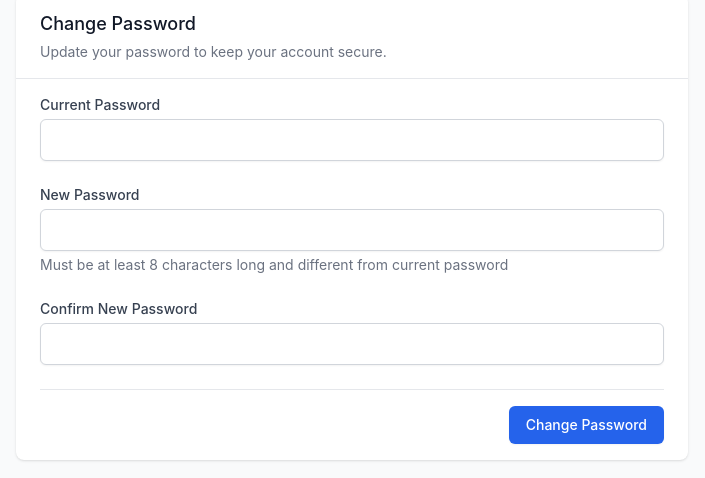
Test: PasswordChangeForm › shows loading state during submission
In the password field labelled "Current Password": (352, 140) x1=40 y1=119 x2=664 y2=161, type "oldpassword123"
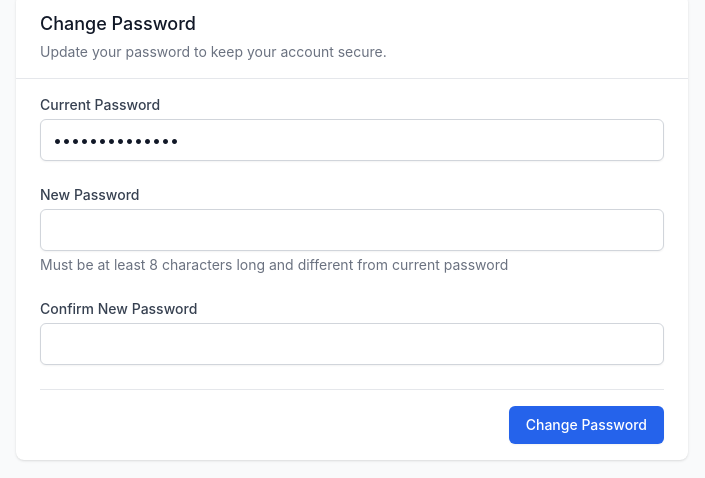
In the password field labelled "New Password": (352, 230) x1=40 y1=209 x2=664 y2=251, type "newpassword123"
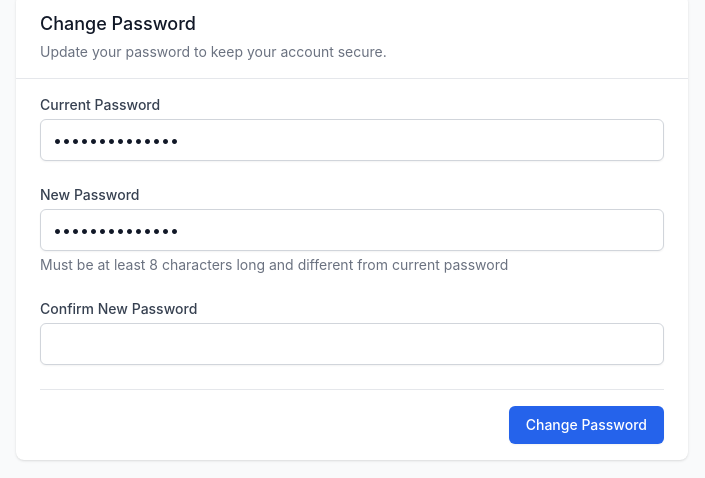
In the password field labelled "Confirm New Password": (352, 344) x1=40 y1=323 x2=664 y2=365, type "newpassword123"
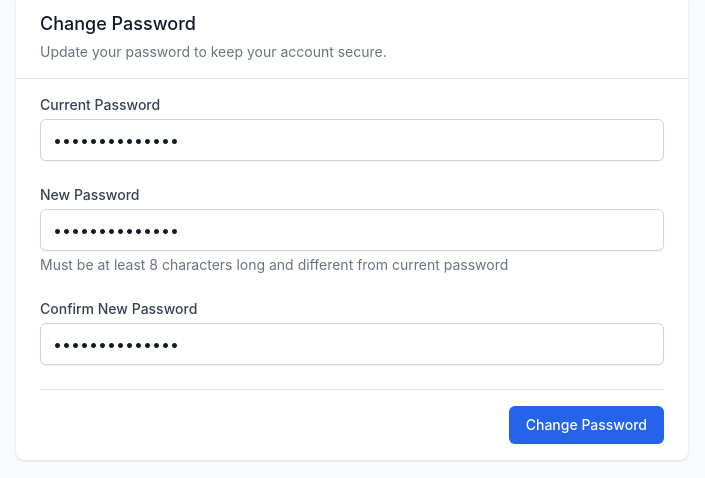
Click the button "Change Password": (586, 425) x1=509 y1=406 x2=664 y2=444
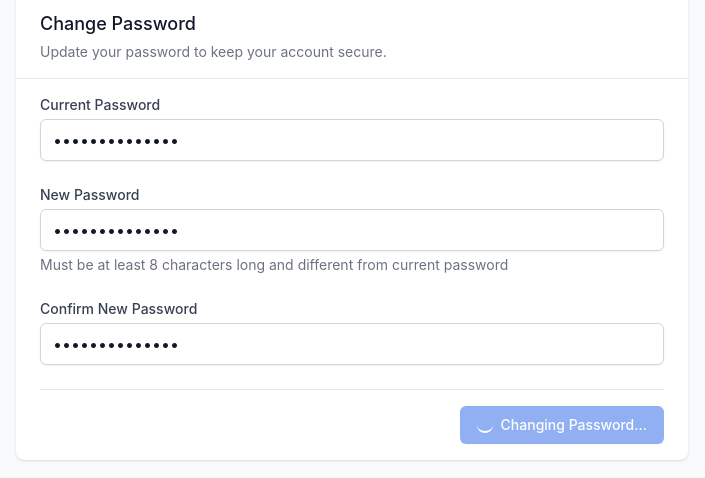
Expected: the text "Changing Password..." is shown, x1=477 y1=415 x2=647 y2=435
Expected: the button named "Change Password" is disabled, x1=460 y1=406 x2=664 y2=444
